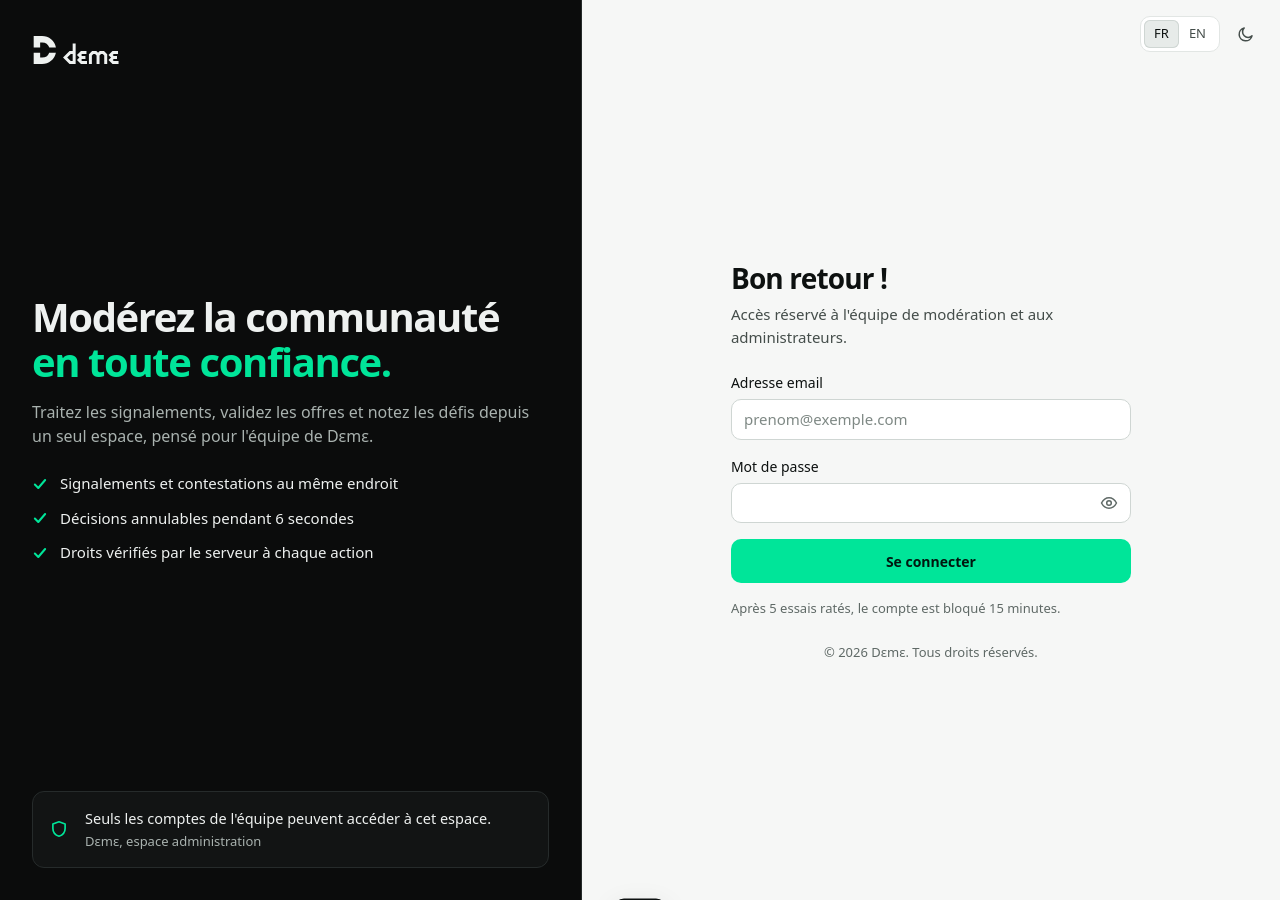
Test: les champs invalides sont signalés avant tout appel
The width and height of the screenshot is (1280, 900).
Click the button "Se connecter": x=931, y=561 [731, 539, 1131, 583]
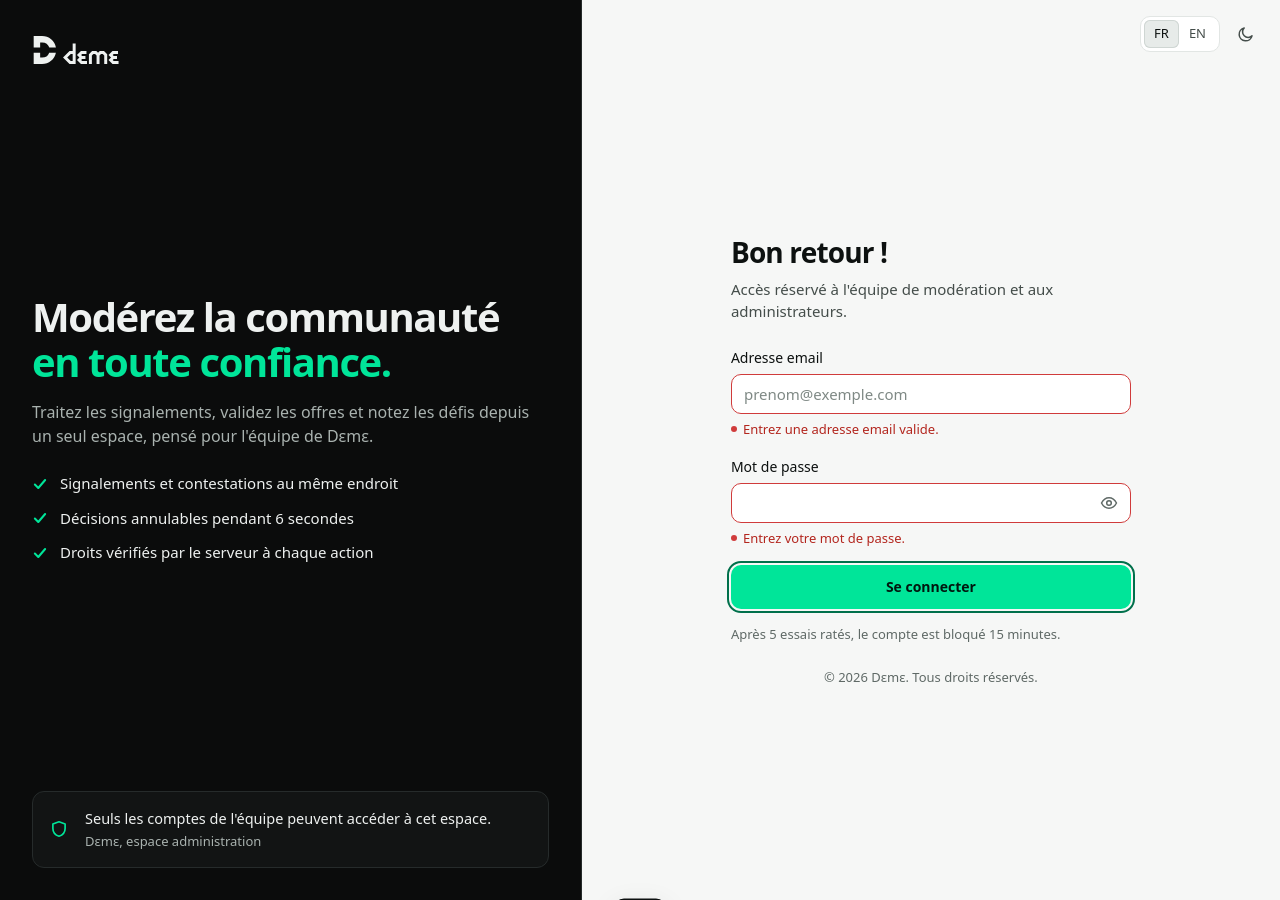
expect the text "Entrez une adresse email valide." is shown: met, box [743, 420, 939, 438]
